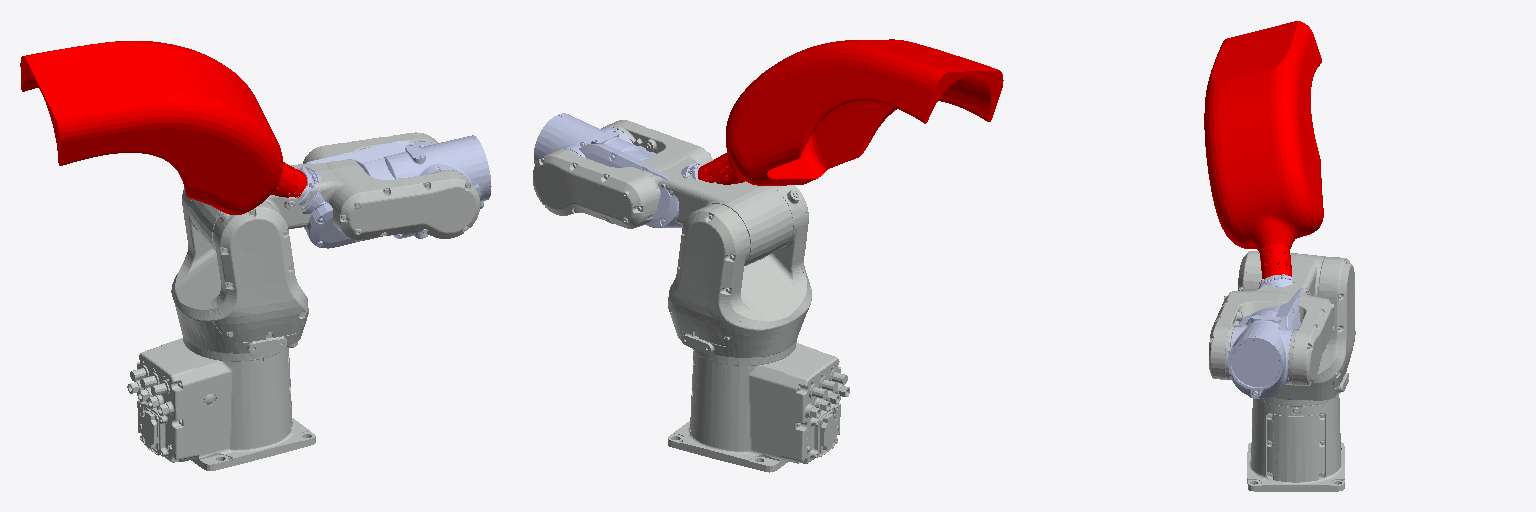
robot.urdf — IRB1100_xistera:
<?xml version="1.0" encoding="utf-8" ?>
<!-- This URDF was automatically created by SolidWorks to URDF Exporter! Originally created by [author] ([email redacted]) 
     Commit Version: 1.6.0-4-g7f85cfe  Build Version: 1.6.7995.38578
     For more information, please see http://wiki.ros.org/sw_urdf_exporter -->
<robot name="IRB1100_xistera">
    <link name="base_link">
        <inertial>
            <origin xyz="-0.105283491089362 -0.0747974936088496 0.0720560356221442" rpy="0 0 0" />
            <mass value="9.57913203645447" />
            <inertia ixx="0.0304260038935618" ixy="9.4408349229452E-06" ixz="-0.000380191192485916" iyy="0.0471873448280596" iyz="7.1461104915765E-07" izz="0.0403438211255412" />
        </inertial>
        <visual>
            <origin xyz="0 0 0" rpy="0 0 0" />
            <geometry>
                <mesh filename="package://IRB1100_xistera/meshes/base_link.STL" />
            </geometry>
            <material name="">
                <color rgba="0.780392156862745 0.8 0.788235294117647 1" />
            </material>
        </visual>
        <collision>
            <origin xyz="0 0 0" rpy="0 0 0" />
            <geometry>
                <mesh filename="package://IRB1100_xistera/meshes/base_link.STL" />
            </geometry>
        </collision>
    </link>
    <link name="l1">
        <inertial>
            <origin xyz="0.00624122029419085 -0.000920529201578893 0.0755090026882631" rpy="0 0 0" />
            <mass value="8.45282246398371" />
            <inertia ixx="0.0491047642662061" ixy="-0.00234573391799158" ixz="0.000266705299647525" iyy="0.0369632474914021" iyz="-0.000384165003190648" izz="0.0363028269631706" />
        </inertial>
        <visual>
            <origin xyz="0 0 0" rpy="0 0 0" />
            <geometry>
                <mesh filename="package://IRB1100_xistera/meshes/l1.STL" />
            </geometry>
            <material name="">
                <color rgba="0.780392156862745 0.8 0.788235294117647 1" />
            </material>
        </visual>
        <collision>
            <origin xyz="0 0 0" rpy="0 0 0" />
            <geometry>
                <mesh filename="package://IRB1100_xistera/meshes/l1.STL" />
            </geometry>
        </collision>
    </link>
    <joint name="j1" type="revolute">
        <origin xyz="-0.0789045679690987 -0.0748031698825133 0.15814701196597" rpy="0 -0.0174532925199433 0" />
        <parent link="base_link" />
        <child link="l1" />
        <axis xyz="0 0 1" />
        <limit lower="-2.7453" upper="3.1888" effort="0" velocity="0" />
    </joint>
    <link name="l2">
        <inertial>
            <origin xyz="-0.121219114885782 -0.0261520918336268 -0.00296882521737635" rpy="0 0 0" />
            <mass value="6.55953878255611" />
            <inertia ixx="0.0214700493263696" ixy="-0.0137144817179662" ixz="-0.000179143570702576" iyy="0.0765894280687242" iyz="0.000158167214742439" izz="0.0683370060020664" />
        </inertial>
        <visual>
            <origin xyz="0 0 0" rpy="0 0 0" />
            <geometry>
                <mesh filename="package://IRB1100_xistera/meshes/l2.STL" />
            </geometry>
            <material name="">
                <color rgba="0.780392156862745 0.796078431372549 0.788235294117647 1" />
            </material>
        </visual>
        <collision>
            <origin xyz="0 0 0" rpy="0 0 0" />
            <geometry>
                <mesh filename="package://IRB1100_xistera/meshes/l2.STL" />
            </geometry>
        </collision>
    </link>
    <joint name="j2" type="continuous">
        <origin xyz="0 0 0.1775" rpy="-1.5707963267949 -0.216450624526298 2.95475803714406" />
        <parent link="l1" />
        <child link="l2" />
        <axis xyz="0 0 -1" />
    </joint>
    <link name="l3">
        <inertial>
            <origin xyz="0.00722748712741045 -0.00425060531122728 0.0496803763424455" rpy="0 0 0" />
            <mass value="2.86220341681764" />
            <inertia ixx="0.0042437348722123" ixy="0.00011764983005676" ixz="2.59197550431231E-05" iyy="0.00504523474529083" iyz="-1.49651058998775E-05" izz="0.00599015821748166" />
        </inertial>
        <visual>
            <origin xyz="0 0 0" rpy="0 0 0" />
            <geometry>
                <mesh filename="package://IRB1100_xistera/meshes/l3.STL" />
            </geometry>
            <material name="">
                <color rgba="0.792156862745098 0.819607843137255 0.933333333333333 1" />
            </material>
        </visual>
        <collision>
            <origin xyz="0 0 0" rpy="0 0 0" />
            <geometry>
                <mesh filename="package://IRB1100_xistera/meshes/l3.STL" />
            </geometry>
        </collision>
    </link>
    <joint name="j3" type="continuous">
        <origin xyz="-0.27427 -0.050971 0.0485" rpy="3.1416 0 0.21645" />
        <parent link="l2" />
        <child link="l3" />
        <axis xyz="0 0 1" />
    </joint>
    <link name="l4">
        <inertial>
            <origin xyz="-0.000457504923202359 0.00270179796954159 0.11631098608909" rpy="0 0 0" />
            <mass value="3.89100478458496" />
            <inertia ixx="0.0176170711264484" ixy="-0.000349964808821009" ixz="-0.000207106059131292" iyy="0.0185147877058236" iyz="5.86170349496722E-05" izz="0.0052576454786726" />
        </inertial>
        <visual>
            <origin xyz="0 0 0" rpy="0 0 0" />
            <geometry>
                <mesh filename="package://IRB1100_xistera/meshes/l4.STL" />
            </geometry>
            <material name="">
                <color rgba="0.792156862745098 0.819607843137255 0.933333333333333 1" />
            </material>
        </visual>
        <collision>
            <origin xyz="0 0 0" rpy="0 0 0" />
            <geometry>
                <mesh filename="package://IRB1100_xistera/meshes/l4.STL" />
            </geometry>
        </collision>
    </link>
    <joint name="j4" type="revolute">
        <origin xyz="-0.072805 0.014521 0.0485" rpy="3.0707 -1.5708 0" />
        <parent link="l3" />
        <child link="l4" />
        <axis xyz="0 0 1" />
        <limit lower="-3.4761" upper="2.8071" effort="0" velocity="0" />
    </joint>
    <link name="l5">
        <inertial>
            <origin xyz="0.0123346902944821 -0.000603378896612272 0.00435585202796415" rpy="0 0 0" />
            <mass value="0.000330181926822551" />
            <inertia ixx="2.32452786048172E-07" ixy="1.63055527530161E-08" ixz="-4.79353412720911E-08" iyy="2.94567358407438E-07" iyz="-3.93483466368745E-09" izz="2.86903187466064E-07" />
        </inertial>
        <visual>
            <origin xyz="0 0 0" rpy="0 0 0" />
            <geometry>
                <mesh filename="package://IRB1100_xistera/meshes/l5.STL" />
            </geometry>
            <material name="">
                <color rgba="0.792156862745098 0.819607843137255 0.933333333333333 1" />
            </material>
        </visual>
        <collision>
            <origin xyz="0 0 0" rpy="0 0 0" />
            <geometry>
                <mesh filename="package://IRB1100_xistera/meshes/l5.STL" />
            </geometry>
        </collision>
    </link>
    <joint name="j5" type="revolute">
        <origin xyz="6.5064E-05 0.00018718 0.2265" rpy="-1.5708 -0.77712 1.2363" />
        <parent link="l4" />
        <child link="l5" />
        <axis xyz="0 0 1" />
        <limit lower="-2.8881" upper="1.3007" effort="0" velocity="0" />
    </joint>
    <link name="l6">
        <inertial>
            <origin xyz="-0.260949216602801 0.10943567985498 0.138224122657984" rpy="0 0 0" />
            <mass value="2.63325516554124" />
            <inertia ixx="0.0107831523661728" ixy="0.00236812980187639" ixz="0.000320270160646401" iyy="0.0127999478138318" iyz="0.000857800766188902" izz="0.00925489923877011" />
        </inertial>
        <visual>
            <origin xyz="0 0 0" rpy="0 0 0" />
            <geometry>
                <mesh filename="package://IRB1100_xistera/meshes/l6.STL" />
            </geometry>
            <material name="">
                <color rgba="1 0 0 1" />
            </material>
        </visual>
        <collision>
            <origin xyz="0 0 0" rpy="0 0 0" />
            <geometry>
                <mesh filename="package://IRB1100_xistera/meshes/l6.STL" />
            </geometry>
        </collision>
    </link>
    <joint name="j6" type="continuous">
        <origin xyz="0.10765 -0.013031 0.05353" rpy="-0.51333 -0.44997 1.6908" />
        <parent link="l5" />
        <child link="l6" />
        <axis xyz="0 0 1" />
    </joint>
    <transmission name="trans_j1">
        <type>transmission_interface/SimpleTransmission</type>
        <joint name="j1">
            <hardwareInterface>hardware_interface/PositionJointInterface</hardwareInterface>
        </joint>
        <actuator name="j1_motor">
            <hardwareInterface>hardware_interface/PositionJointInterface</hardwareInterface>
            <mechanicalReduction>1</mechanicalReduction>
        </actuator>
    </transmission>
    <transmission name="trans_j2">
        <type>transmission_interface/SimpleTransmission</type>
        <joint name="j2">
            <hardwareInterface>hardware_interface/PositionJointInterface</hardwareInterface>
        </joint>
        <actuator name="j2_motor">
            <hardwareInterface>hardware_interface/PositionJointInterface</hardwareInterface>
            <mechanicalReduction>1</mechanicalReduction>
        </actuator>
    </transmission>
    <transmission name="trans_j3">
        <type>transmission_interface/SimpleTransmission</type>
        <joint name="j3">
            <hardwareInterface>hardware_interface/PositionJointInterface</hardwareInterface>
        </joint>
        <actuator name="j3_motor">
            <hardwareInterface>hardware_interface/PositionJointInterface</hardwareInterface>
            <mechanicalReduction>1</mechanicalReduction>
        </actuator>
    </transmission>
    <transmission name="trans_j4">
        <type>transmission_interface/SimpleTransmission</type>
        <joint name="j4">
            <hardwareInterface>hardware_interface/PositionJointInterface</hardwareInterface>
        </joint>
        <actuator name="j4_motor">
            <hardwareInterface>hardware_interface/PositionJointInterface</hardwareInterface>
            <mechanicalReduction>1</mechanicalReduction>
        </actuator>
    </transmission>
    <transmission name="trans_j5">
        <type>transmission_interface/SimpleTransmission</type>
        <joint name="j5">
            <hardwareInterface>hardware_interface/PositionJointInterface</hardwareInterface>
        </joint>
        <actuator name="j5_motor">
            <hardwareInterface>hardware_interface/PositionJointInterface</hardwareInterface>
            <mechanicalReduction>1</mechanicalReduction>
        </actuator>
    </transmission>
    <transmission name="trans_j6">
        <type>transmission_interface/SimpleTransmission</type>
        <joint name="j6">
            <hardwareInterface>hardware_interface/PositionJointInterface</hardwareInterface>
        </joint>
        <actuator name="j6_motor">
            <hardwareInterface>hardware_interface/PositionJointInterface</hardwareInterface>
            <mechanicalReduction>1</mechanicalReduction>
        </actuator>
    </transmission>
    <gazebo>
        <plugin name="gazebo_ros_control" filename="libgazebo_ros_control.so">
            <robotNamespace>/</robotNamespace>
        </plugin>
    </gazebo>
</robot>

--- What the picture shows (computed from the rendered views, not written in the file) ---
The picture shows the robot from 3 angles, left to right: view 1: azimuth 30°, elevation 25°; view 2: azimuth 150°, elevation 25°; view 3: azimuth 270°, elevation 25°; orthographic projection.
Model IRB1100_xistera with 7 links and 6 joints (3 revolute, 3 continuous), rooted at base_link, posed every joint at zero.
Visible links, largest first — view 1: l6, base_link, l1, l2, l3, l4, l5; view 2: l6, l1, base_link, l2, l3, l4; view 3: l6, base_link, l2, l1, l4, l3.
Boxes of the visible links, x1,y1,x2,y2 form: l6: (20,41,307,214); base_link: (127,338,315,470); l1: (171,187,308,361); l2: (190,132,480,250); l3: (384,135,491,238); l4: (306,138,490,248); l5: (298,166,326,229); l6: (698,39,1003,185); l1: (668,185,811,365); base_link: (668,343,849,472); l2: (533,120,792,265); l3: (534,113,641,223); l4: (534,115,678,227); l6: (1204,21,1323,278); base_link: (1247,395,1344,491); l2: (1209,253,1334,385); l1: (1238,251,1355,406); l4: (1228,288,1310,390); l3: (1226,311,1294,398).
Size in the robot's own frame: 0.701 by 0.2429 by 0.646 metres.
Meshes: 7 distinct files referenced, 7 mesh visuals loaded (7 binary STL).